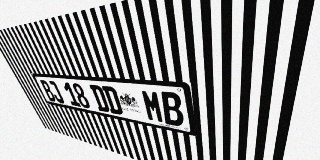1: (61, 82, 81, 107)
8: (71, 83, 91, 109)
B: (159, 91, 185, 128), (39, 80, 57, 102)
D: (101, 86, 124, 115), (89, 85, 111, 113)
J: (47, 81, 65, 104)
M: (140, 89, 165, 124)
